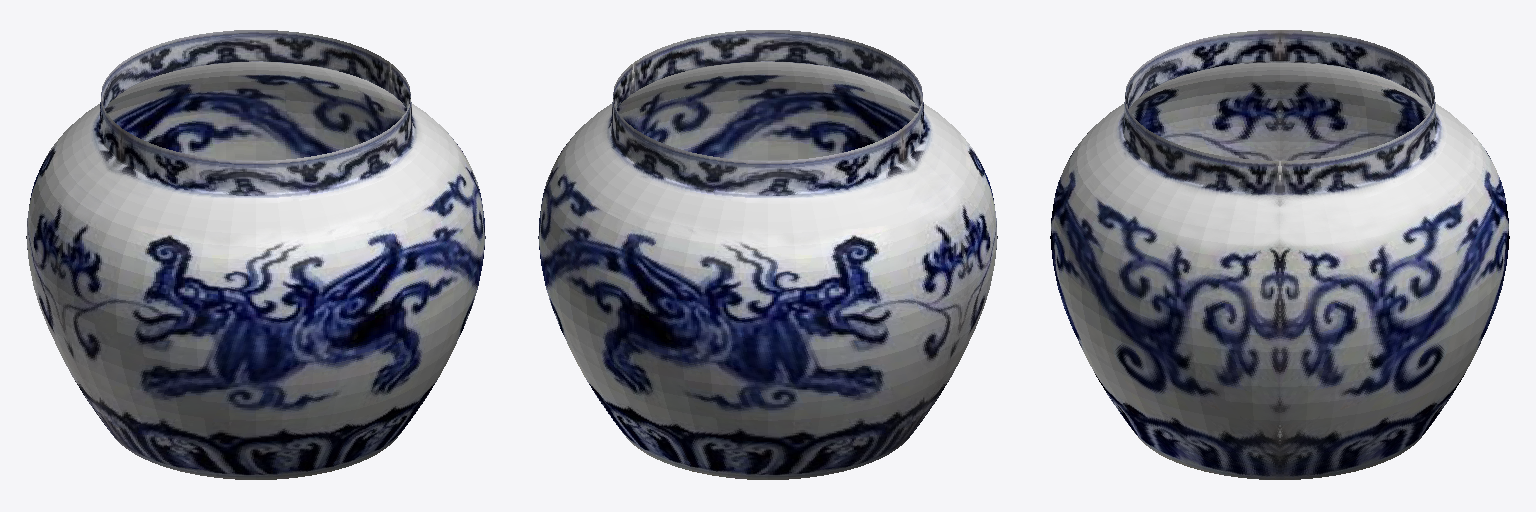
3 renders of one model, left to right at view 1: azimuth 30°, elevation 25°; view 2: azimuth 150°, elevation 25°; view 3: azimuth 270°, elevation 25°, orthographic.
Visible parts, largest first — view 1: ____________; view 2: ____________; view 3: ____________.
Boxes of the visible parts, <box> form: ____________: <box>26,30,485,479</box>; ____________: <box>538,30,997,479</box>; ____________: <box>1050,30,1509,479</box>.
Size of the model in its own units: 253 by 195 by 253.
1 materials, 1 textured.